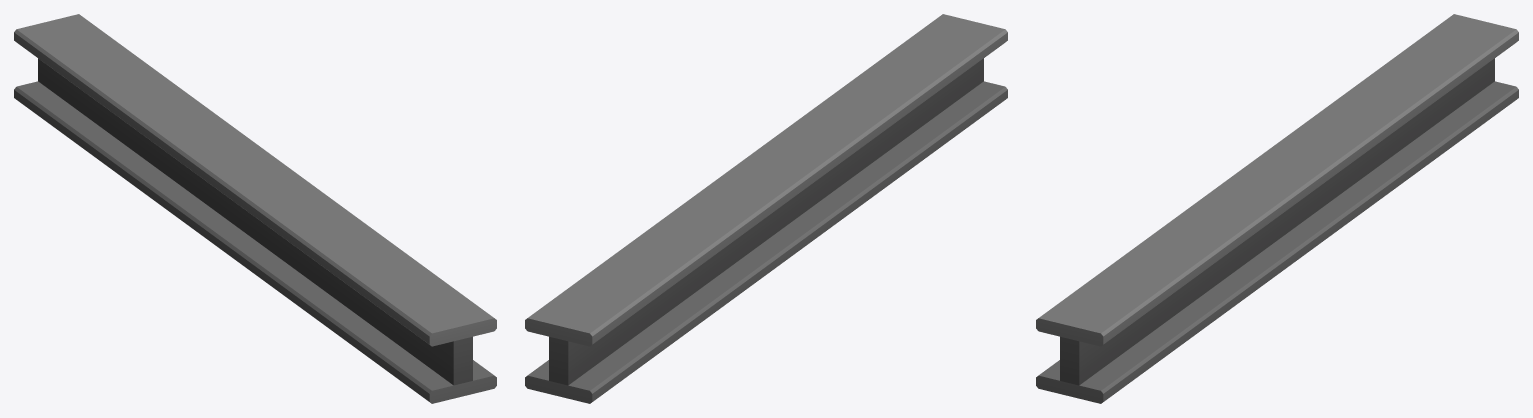
File: Rail_C_1_3.fbx
3 views of the same model, side by side, from view 1: azimuth 30°, elevation 25°; view 2: azimuth 150°, elevation 25°; view 3: azimuth 330°, elevation 25° (orthographic).
Visible parts, largest first — view 1: Rail_C_1_3; view 2: Rail_C_1_3; view 3: Rail_C_1_3.
Part boxes in pixels (x1,y1,x2,y2): Rail_C_1_3: (14, 14, 496, 403); Rail_C_1_3: (525, 14, 1007, 403); Rail_C_1_3: (1036, 14, 1518, 403).
Size of the model in its own units: 37.43 by 37.43 by 400.
